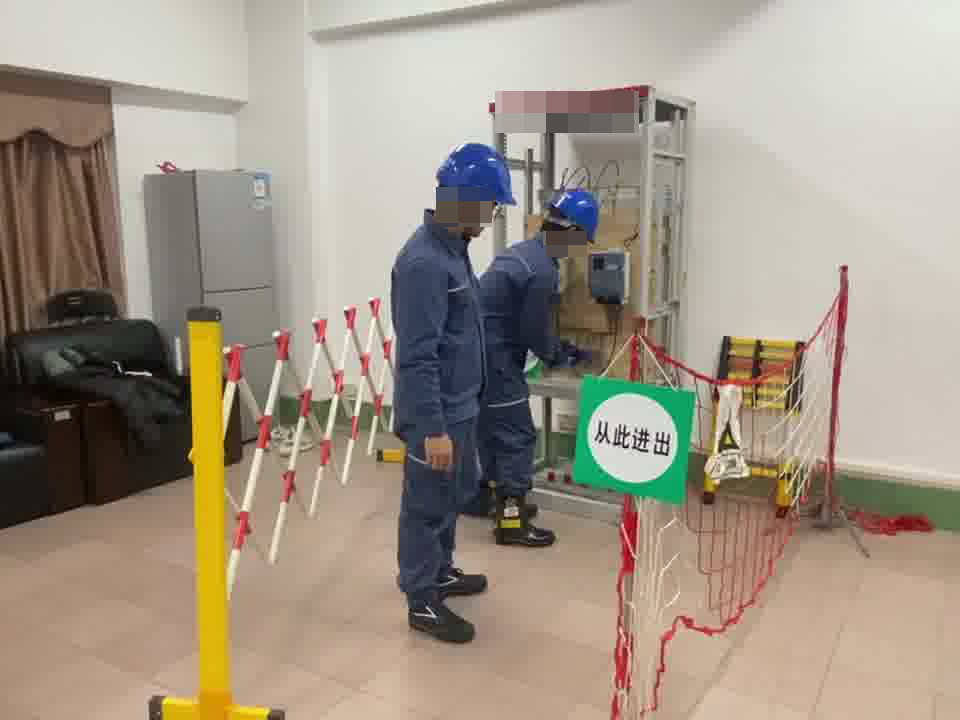downsuit: (397, 431, 480, 604)
halt: (434, 142, 516, 236), (545, 188, 603, 250)
hand: (423, 435, 456, 472)
intosign: (568, 371, 699, 504)
person: (388, 142, 498, 638), (472, 184, 600, 551)
shoe: (490, 485, 557, 551)
upsuit: (388, 222, 481, 420), (482, 233, 561, 386)
